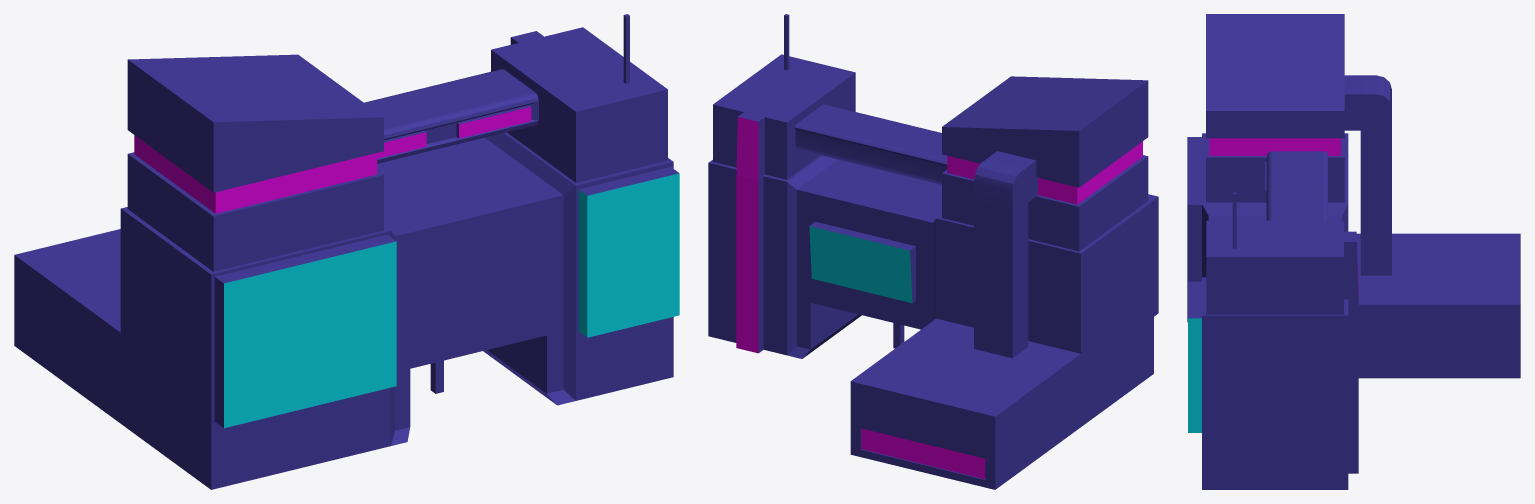
File: building3.fbx
The picture shows the model from 3 angles, left to right: view 1: azimuth 30°, elevation 25°; view 2: azimuth 150°, elevation 25°; view 3: azimuth 270°, elevation 25°; orthographic projection. The views are drawn at different scales.
Visible parts, largest first — view 1: building3; view 2: building3; view 3: building3.
Part boxes in pixels (bbox=[...]): building3: bbox=[14, 14, 679, 489]; building3: bbox=[708, 14, 1158, 489]; building3: bbox=[1187, 14, 1520, 489].
Size of the model in its own units: 141 by 107 by 109.
